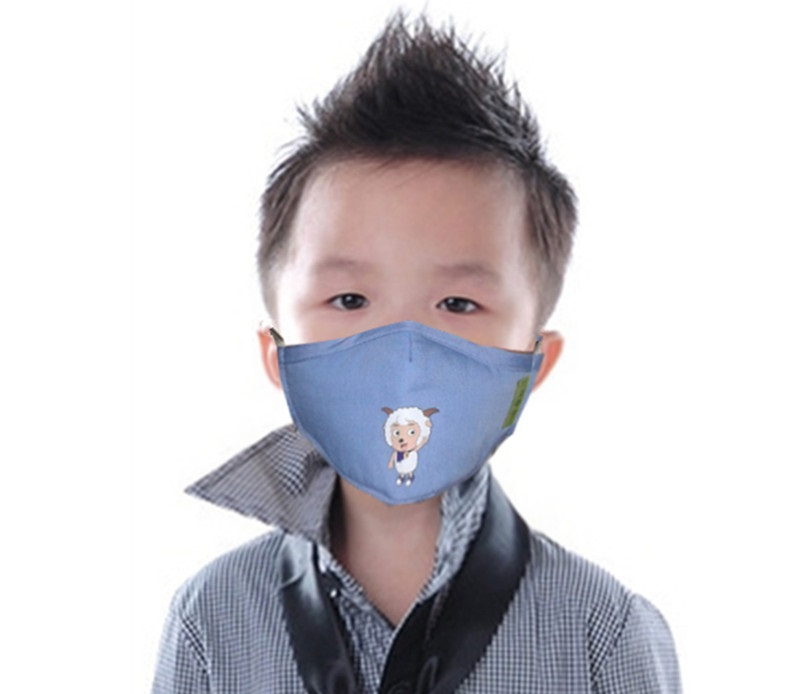face_mask: (276, 156, 536, 495)
